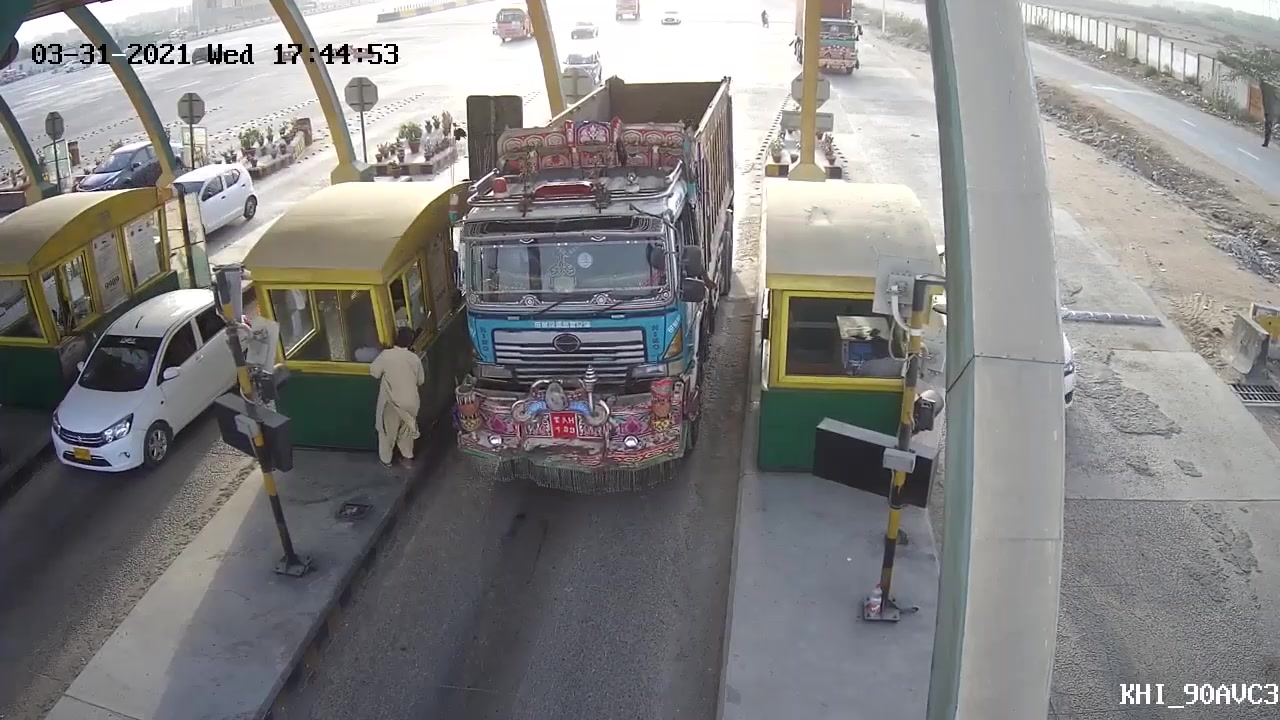F5: (450, 72, 742, 518)
